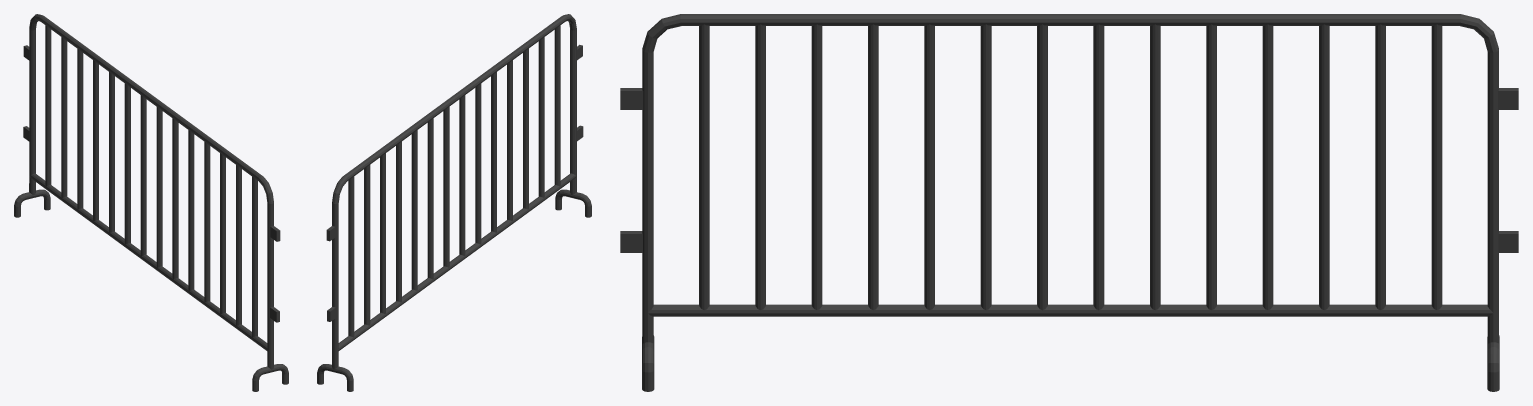
Rendered from Safety_Barrier.fbx.
3 renders of one model, left to right at view 1: azimuth 30°, elevation 25°; view 2: azimuth 150°, elevation 25°; view 3: azimuth 270°, elevation 25°, orthographic. The views are drawn at different scales.
Parts seen in each view (by area): view 1: Safety Barrier; view 2: Safety Barrier; view 3: Safety Barrier.
Boxes of the visible parts, bbox=[...] form: Safety Barrier: bbox=[14, 14, 288, 391]; Safety Barrier: bbox=[317, 14, 591, 391]; Safety Barrier: bbox=[620, 14, 1518, 391].
Bounding box in the file's own units: 75.7 × 413 × 930.
